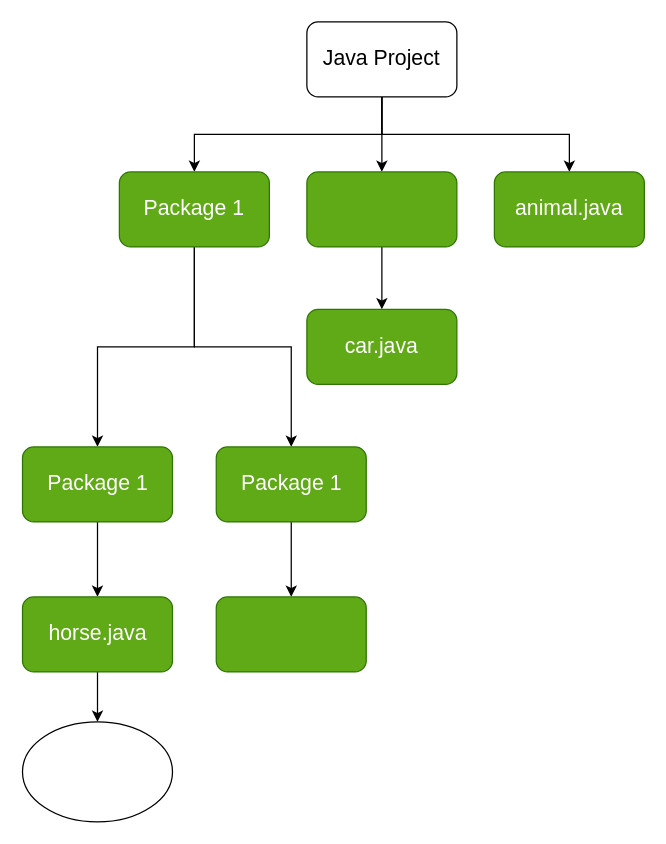
Some shapes in this 666 by 844 pixel diagram are drawn without their labels. Each missing label, with the centre of its shape:
Package 2: the point at 381,209
plane.java: the point at 290,634
Public Legs: the point at 96,771
